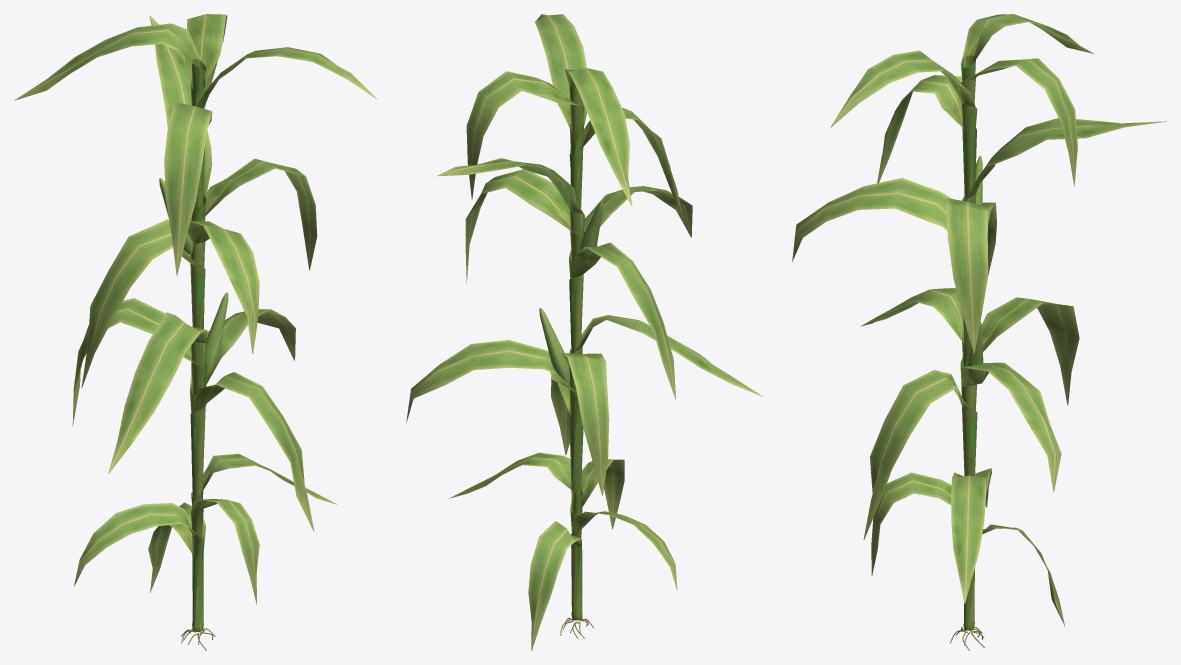
Rendered from grow5.fbx.
3 views of the same model, side by side, from view 1: azimuth 30°, elevation 25°; view 2: azimuth 150°, elevation 25°; view 3: azimuth 270°, elevation 25° (orthographic). The views are drawn at different scales.
Parts seen in each view (by area): view 1: Plane.013, Plane.016, Plane.020, Plane.012, Plane.019, Plane.021, Plane.011, Plane.018, Plane.017, Plane.008, Plane.014, Plane.022 (+5 smaller); view 2: Plane.015, Plane.016, Plane.021, Plane.008, Plane.014, Plane.022, Plane.018, Plane.023, Plane.017, Plane.012, Plane.020, Plane.013 (+6 smaller); view 3: Plane.012, Plane.018, Plane.019, Plane.014, Plane.015, Plane.009, Plane.023, Plane.020, Plane.022, Plane.017, Plane.021, Plane.010 (+4 smaller).
Part boxes in pixels (<box>): Plane.013: <box>108,312,207,473</box>; Plane.016: <box>81,219,205,387</box>; Plane.020: <box>164,102,212,275</box>; Plane.012: <box>190,372,314,531</box>; Plane.019: <box>187,221,259,353</box>; Plane.021: <box>14,23,205,100</box>; Plane.011: <box>74,503,203,585</box>; Plane.018: <box>190,158,317,270</box>; Plane.017: <box>149,16,212,221</box>; Plane.008: <box>148,502,205,632</box>; Plane.014: <box>72,298,206,425</box>; Plane.022: <box>185,14,227,107</box>; Plane.015: <box>406,340,581,422</box>; Plane.016: <box>569,242,675,399</box>; Plane.021: <box>564,68,632,206</box>; Plane.008: <box>528,521,582,650</box>; Plane.014: <box>561,353,609,495</box>; Plane.022: <box>466,71,584,199</box>; Plane.018: <box>465,169,584,283</box>; Plane.023: <box>535,14,586,154</box>; Plane.017: <box>437,158,584,237</box>; Plane.012: <box>551,377,583,495</box>; Plane.020: <box>569,108,683,220</box>; Plane.013: <box>569,315,763,396</box>; Plane.012: <box>863,370,977,539</box>; Plane.018: <box>946,198,988,353</box>; Plane.019: <box>792,178,951,262</box>; Plane.014: <box>960,297,1079,405</box>; Plane.015: <box>960,362,1061,491</box>; Plane.009: <box>951,472,985,603</box>; Plane.023: <box>831,50,977,135</box>; Plane.020: <box>877,75,976,199</box>; Plane.022: <box>961,58,1077,186</box>; Plane.017: <box>962,118,1166,203</box>; Plane.021: <box>961,14,1094,81</box>; Plane.010: <box>871,472,951,576</box>.
Bounding box in the file's own units: 1.57 × 2.83 × 1.37.
2 materials, 2 textured.
